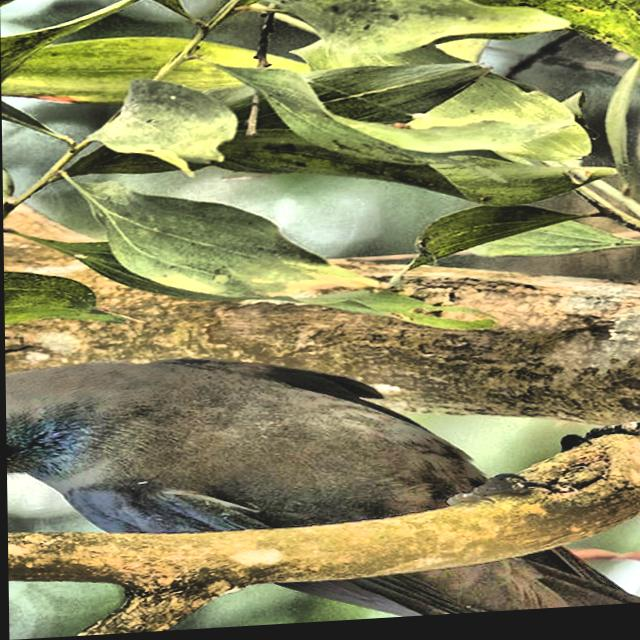crow: (4, 317, 640, 639)
